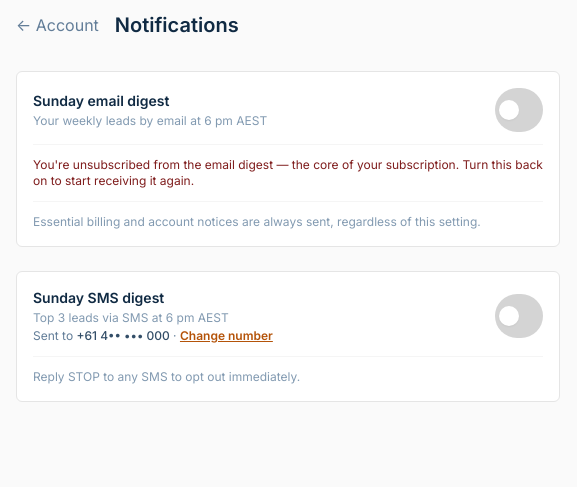
Test: SMSOptInPage — save failures are rendered as errors (#185) › renders a failed opt-in in a role=alert region, not the green success toast
Click the switch named "SMS digest" at (519, 316), box x1=495 y1=294 x2=543 y2=338
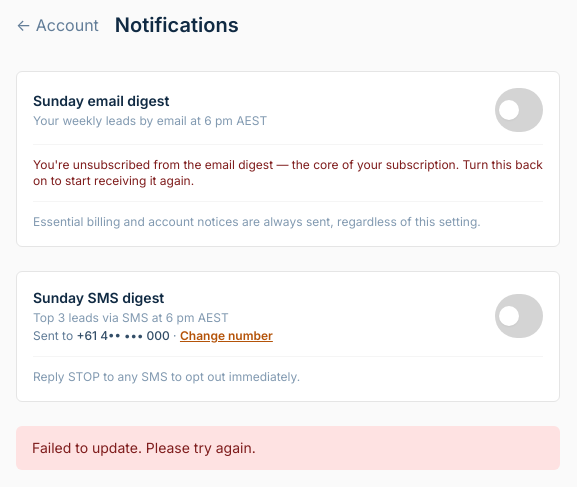
Check: the message reads "Failed to update. Please try again.", box x1=32 y1=439 x2=256 y2=456
